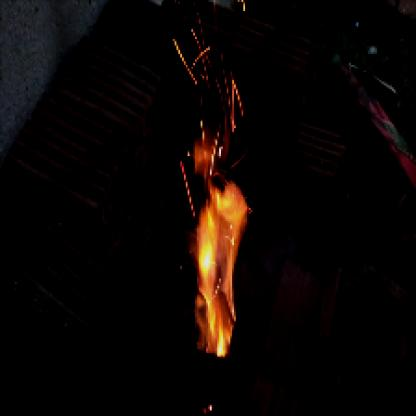Fire: (173, 34, 249, 356)
